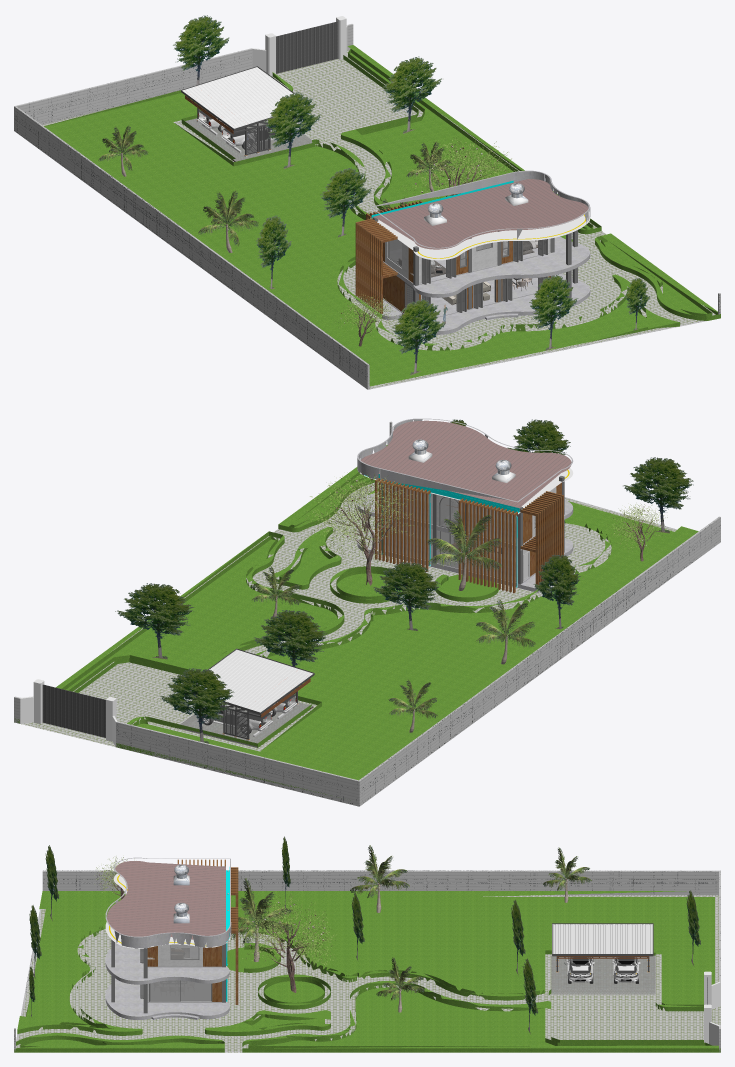
3 renders of one model, top to bottom at view 1: azimuth 30°, elevation 25°; view 2: azimuth 150°, elevation 25°; view 3: azimuth 270°, elevation 25°, orthographic. The views are drawn at different scales.
Visible parts, largest first — view 1: group_36, object 15, object 14, Oak_tree_1, group_1, object 4, group_17, Profile, coconut_half, Group30_2, Component_1, group_37 (+4 smaller); view 2: group_36, object 15, Oak_tree_1, object 14, Profile, group_17, object 4, coconut_half, Group30_2, group_1, group_7, โรงจอดรถ (+5 smaller); view 3: group_36, object 14, object 15, group_17, group_1, object 4, coconut_half, โรงจอดรถ, Group30_2, Oak_tree_1, object 9, Profile (+5 smaller).
Boxes of the visible parts, x1=… form: group_36: x1=44, y1=45, x2=720, y2=386; object 15: x1=14, y1=24, x2=720, y2=389; object 14: x1=42, y1=50, x2=715, y2=388; Oak_tree_1: x1=173, y1=15, x2=650, y2=375; group_1: x1=356, y1=170, x2=590, y2=334; object 4: x1=182, y1=16, x2=590, y2=322; group_17: x1=374, y1=179, x2=588, y2=249; Profile: x1=355, y1=193, x2=550, y2=313; coconut_half: x1=98, y1=125, x2=455, y2=246; Group30_2: x1=338, y1=137, x2=515, y2=346; Component_1: x1=372, y1=217, x2=577, y2=320; group_37: x1=276, y1=21, x2=337, y2=73; group_36: x1=14, y1=444, x2=698, y2=800; object 15: x1=14, y1=421, x2=720, y2=806; Oak_tree_1: x1=115, y1=419, x2=693, y2=743; object 14: x1=21, y1=482, x2=675, y2=751; Profile: x1=375, y1=478, x2=563, y2=593; group_17: x1=360, y1=420, x2=571, y2=508; object 4: x1=20, y1=439, x2=656, y2=746; coconut_half: x1=251, y1=510, x2=535, y2=719; Group30_2: x1=305, y1=470, x2=667, y2=585; group_1: x1=357, y1=418, x2=573, y2=592; group_7: x1=385, y1=484, x2=556, y2=582; โรงจอดรถ: x1=176, y1=678, x2=313, y2=747; group_36: x1=14, y1=891, x2=720, y2=1052; object 14: x1=17, y1=895, x2=720, y2=1052; object 15: x1=14, y1=870, x2=720, y2=1052; group_17: x1=107, y1=861, x2=225, y2=939; group_1: x1=105, y1=857, x2=231, y2=1019; object 4: x1=105, y1=860, x2=720, y2=1045; coconut_half: x1=230, y1=845, x2=591, y2=1000; โรงจอดรถ: x1=551, y1=955, x2=655, y2=994; Group30_2: x1=94, y1=857, x2=336, y2=992; Oak_tree_1: x1=29, y1=836, x2=700, y2=1034; object 9: x1=140, y1=944, x2=210, y2=1000; Profile: x1=147, y1=859, x2=238, y2=1004.
Size of the model in its own units: 28.7 by 9.26 by 54.21.
230 materials, 154 textured.
